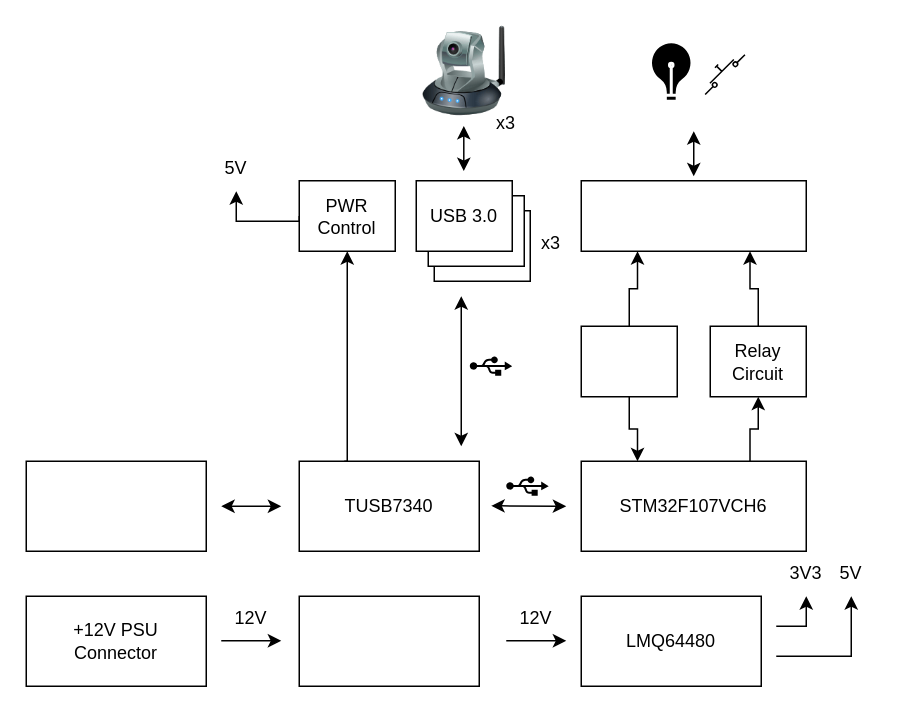
Image size: 923x713. Some labels were removed from this diagram. The shapes that lost their labels are listed below. From the top down, each one's centre as x and y in pixels, then its label:
(693,215): Connector
(628,361): Input Circuit
(115,505): PCIe x1
(388,640): LM74704
